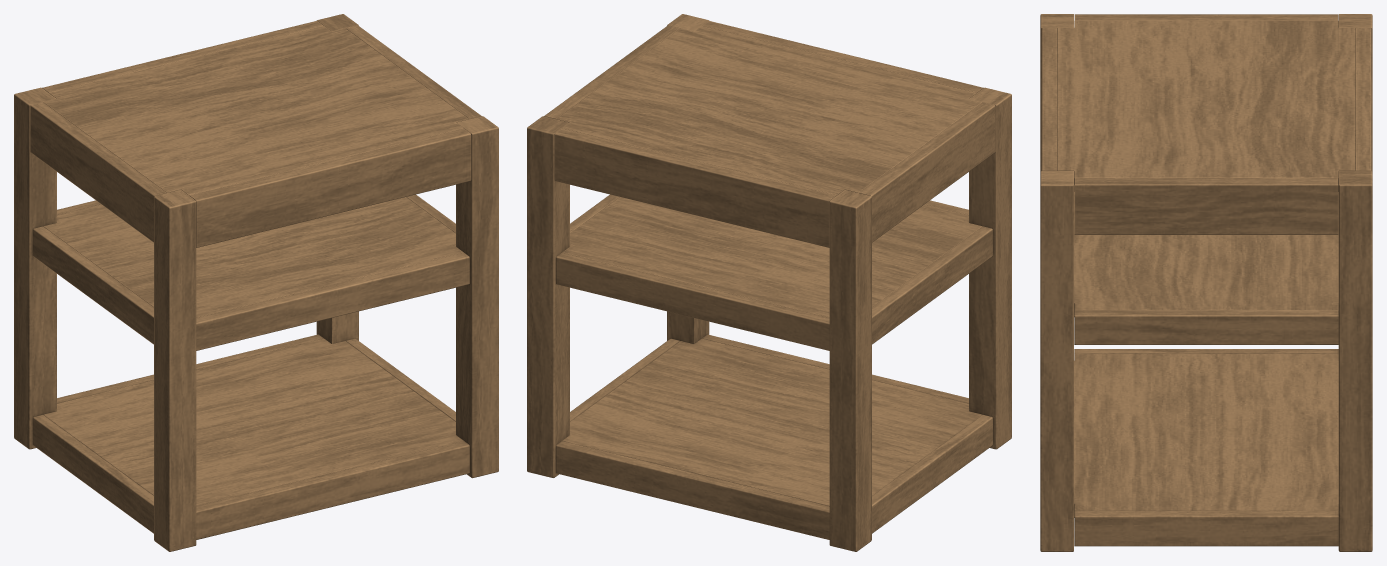
The model's file is side-table-oak.glb.
The picture shows the model from 3 angles, left to right: view 1: azimuth 30°, elevation 25°; view 2: azimuth 150°, elevation 25°; view 3: azimuth 270°, elevation 25°; orthographic projection. The views are drawn at different scales.
Visible parts, largest first — view 1: side_table_01; view 2: side_table_01; view 3: side_table_01.
Boxes of the visible parts, <box> form: side_table_01: <box>14,14,498,551</box>; side_table_01: <box>527,14,1011,551</box>; side_table_01: <box>1040,14,1372,551</box>.
Bounding box in the file's own units: 0.55 × 0.5506 × 0.45.
Materials: 2 (2 with a texture image).
